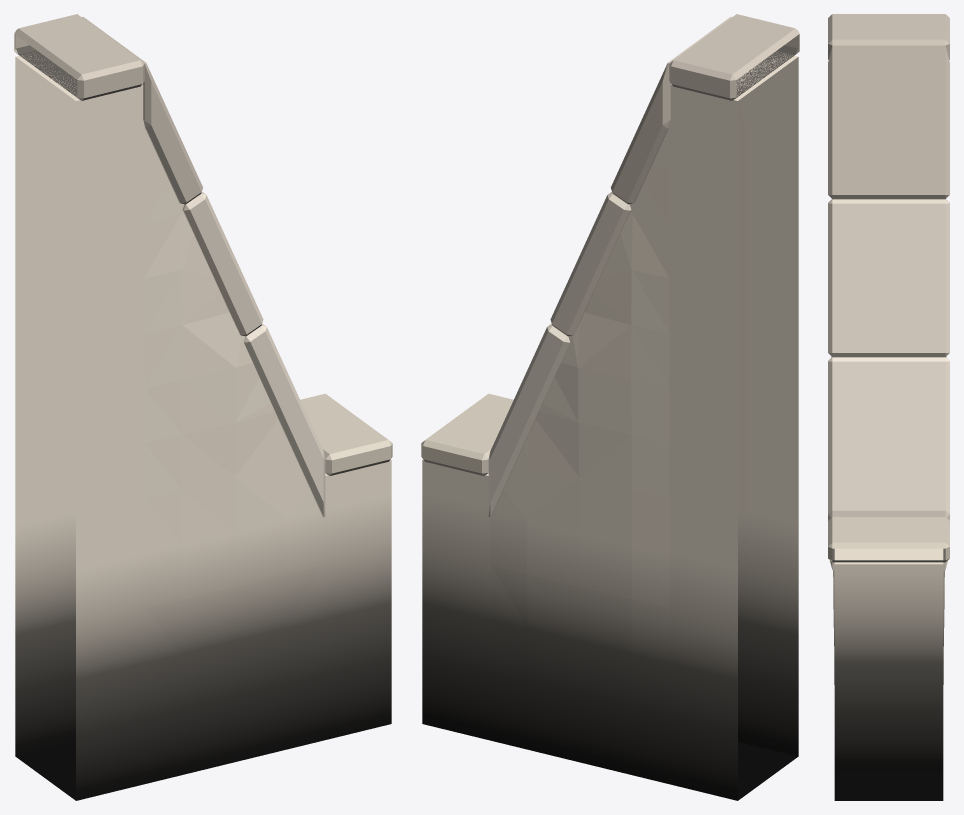
Rendered from SM_VKI_Wall_Sewer_Rake_150_R.fbx.
The picture shows the model from 3 angles, left to right: view 1: azimuth 30°, elevation 25°; view 2: azimuth 150°, elevation 25°; view 3: azimuth 270°, elevation 25°; orthographic projection. The views are drawn at different scales.
Visible parts, largest first — view 1: SM_VKI_Wall_Sewer_Rake_150_R.001; view 2: SM_VKI_Wall_Sewer_Rake_150_R.001; view 3: SM_VKI_Wall_Sewer_Rake_150_R.001.
Part boxes in pixels (<box>): SM_VKI_Wall_Sewer_Rake_150_R.001: <box>14,14,392,800</box>; SM_VKI_Wall_Sewer_Rake_150_R.001: <box>421,14,799,800</box>; SM_VKI_Wall_Sewer_Rake_150_R.001: <box>828,14,949,800</box>.
Bounding box in the file's own units: 1.5 × 3.3 × 0.56.
